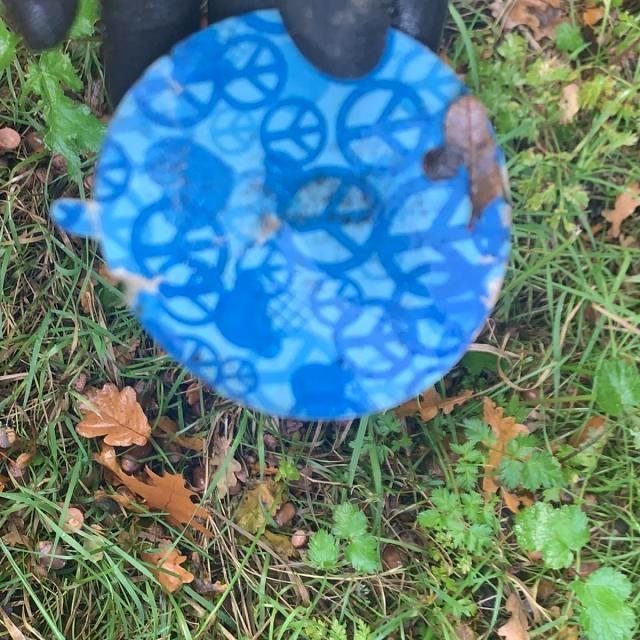Paper: (42, 0, 516, 422)
